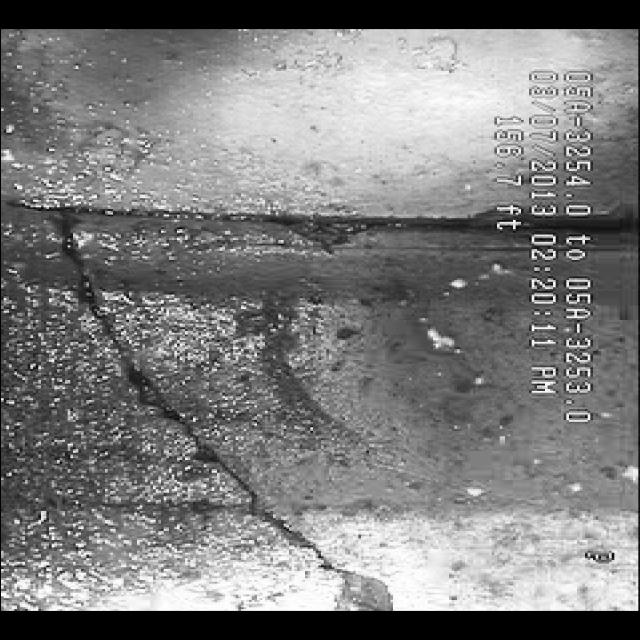Crack: (64, 248, 332, 573)
